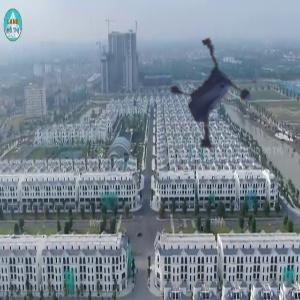drone: (155, 50, 277, 172)
